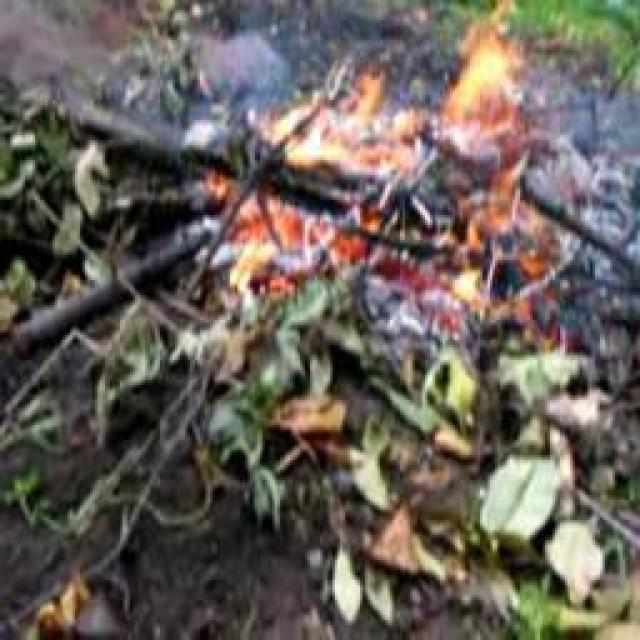Fire: (223, 26, 554, 294)
